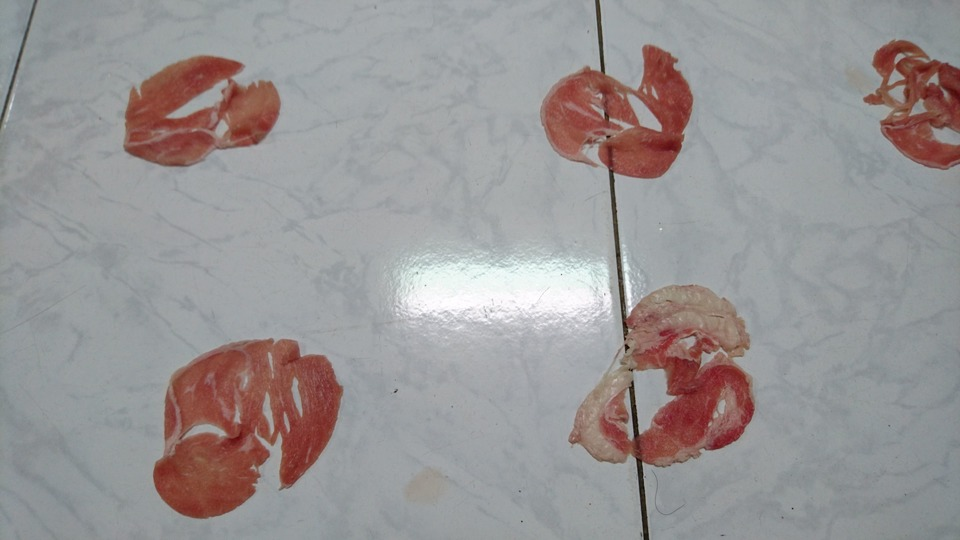restructured meat: (146, 337, 347, 520), (559, 285, 760, 468), (536, 39, 700, 180), (126, 53, 283, 169)
